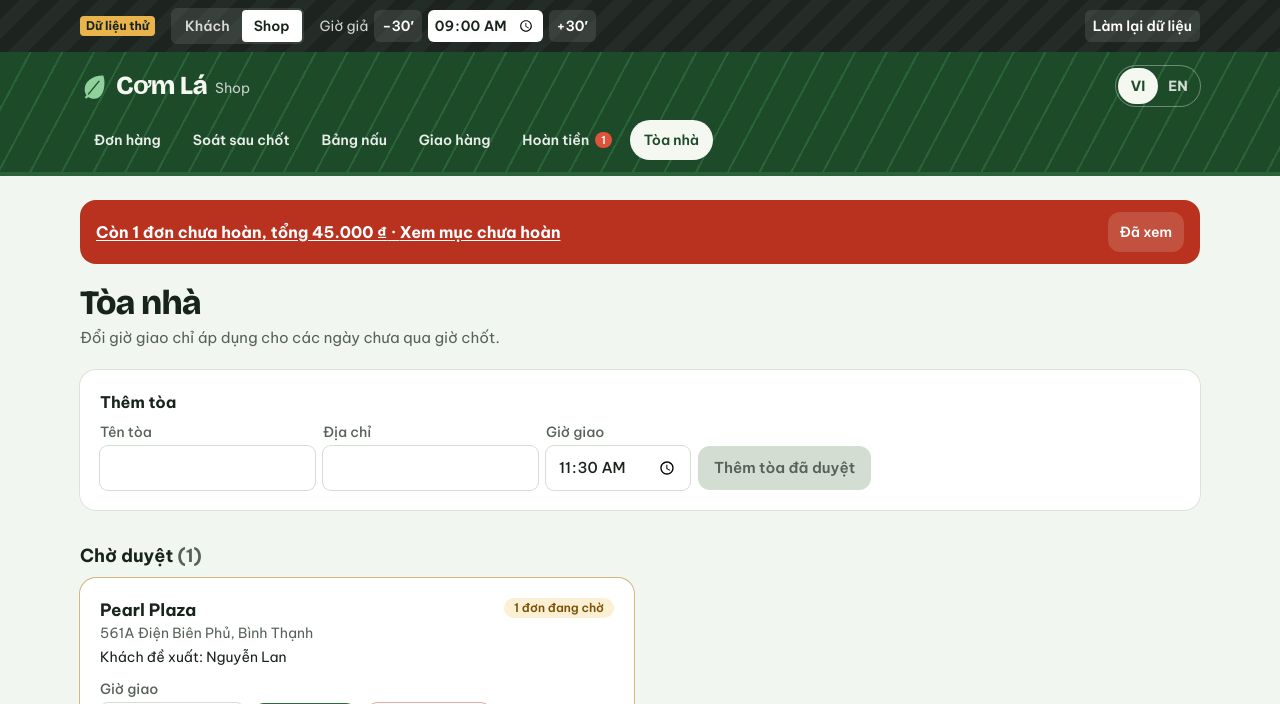
Test: shop adds a building › AC81: "Add building" on the Buildings screen adds an approved building with its delivery time
Type "Tòa XYZ" into the field labelled "Tên tòa" at (208, 468), box [100, 446, 315, 490]
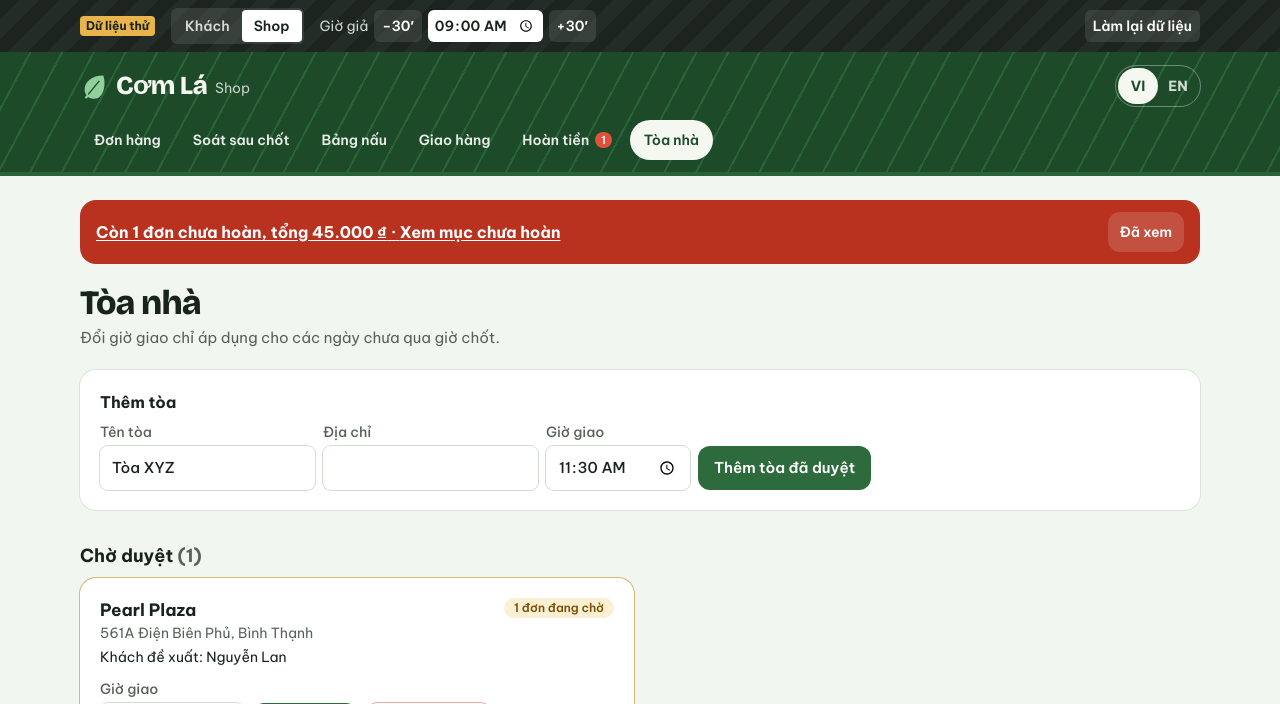
Type "12 Lê Lợi" into the field labelled "Địa chỉ" at (430, 468), box [323, 446, 538, 490]
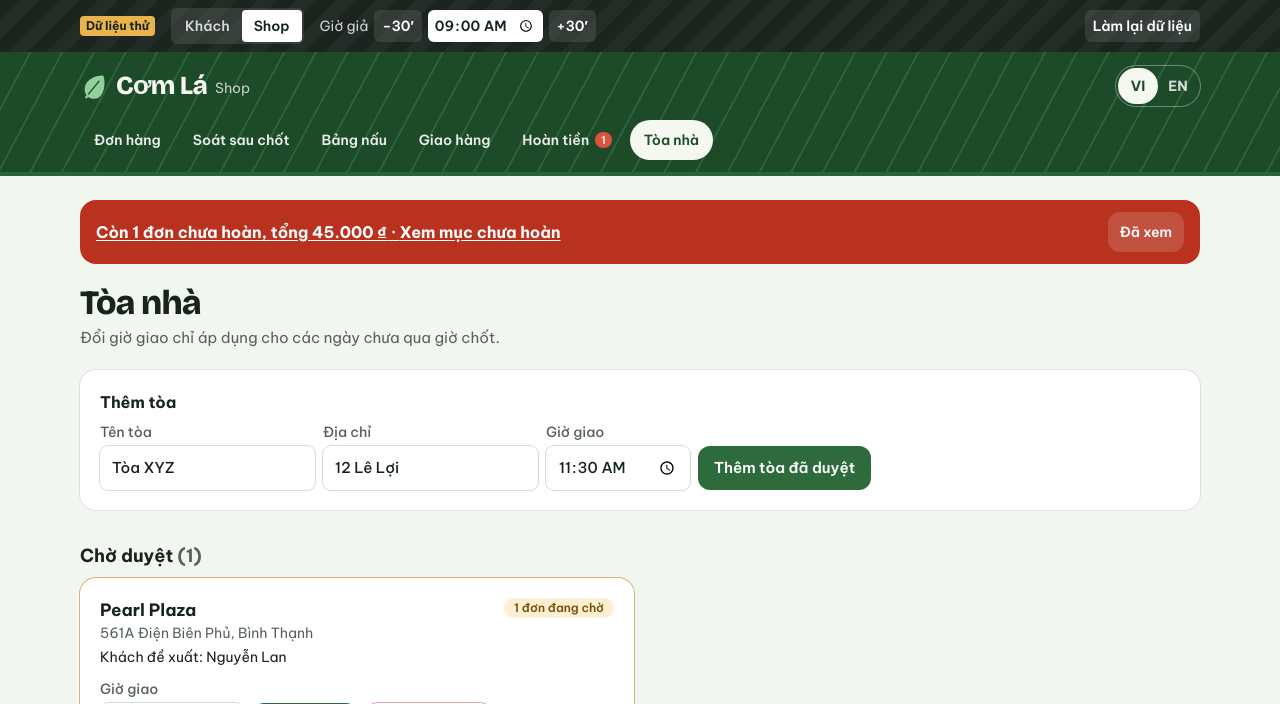
Click the button "Thêm tòa đã duyệt" at (785, 468), box [698, 446, 871, 490]
(page scrolled)
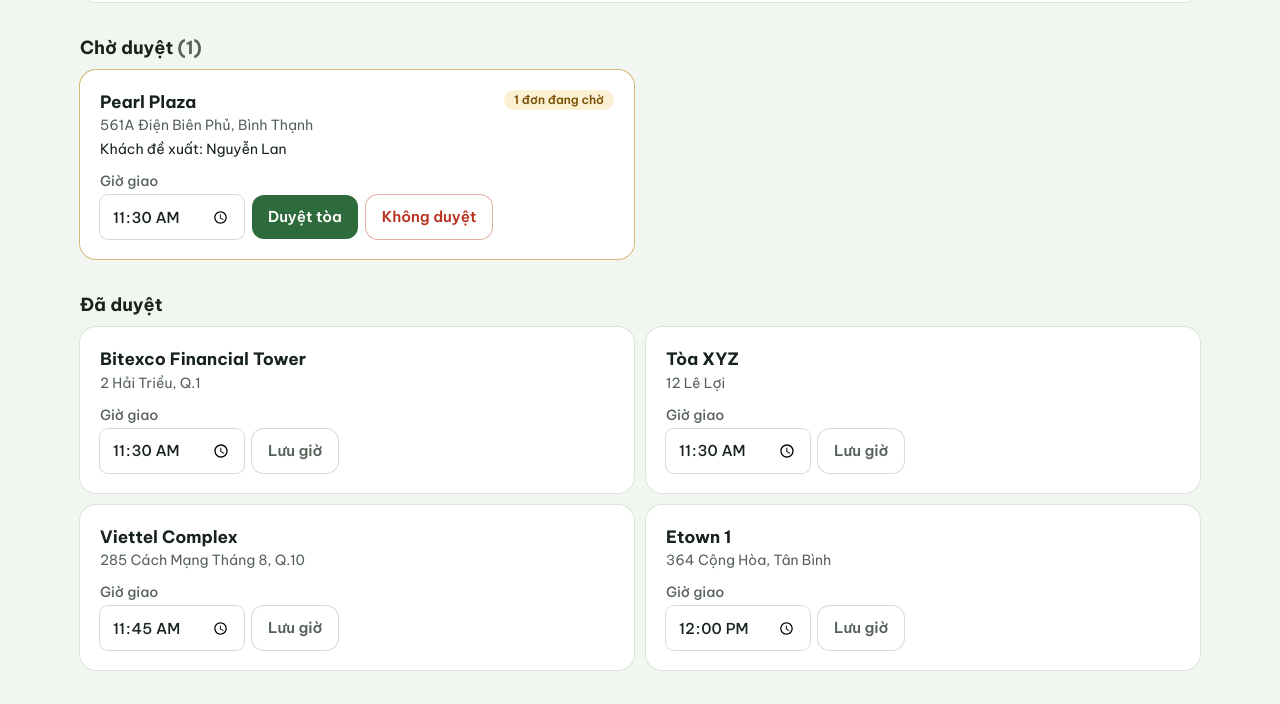
Check: the text "Tòa XYZ" is shown, box [666, 347, 739, 373]
